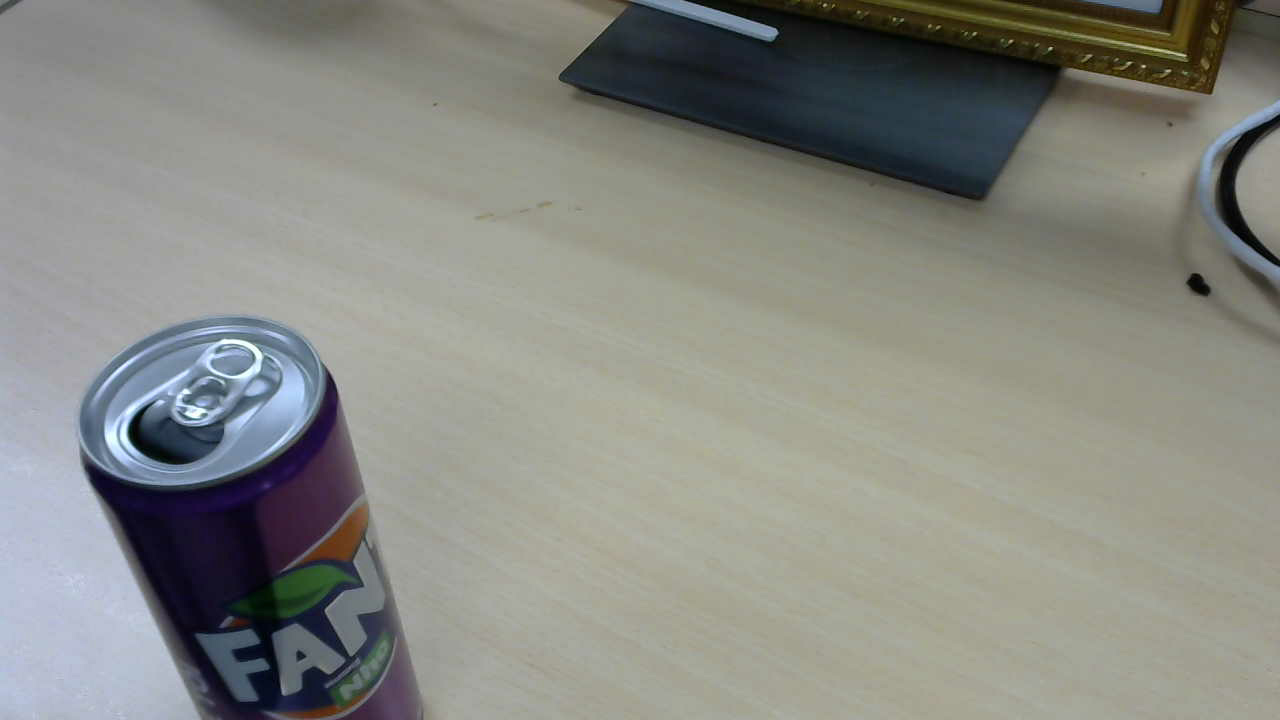Fanta: (79, 321, 425, 697)
